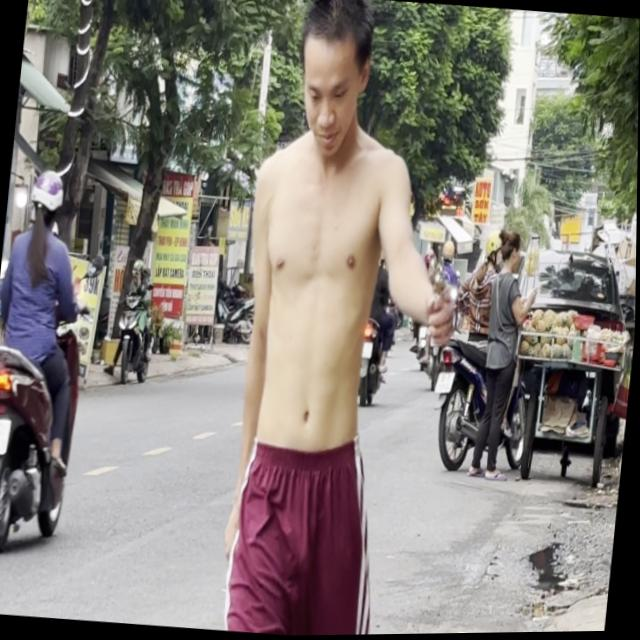helmet: (25, 167, 65, 228), (480, 227, 501, 266)
licenseplate: (0, 162, 104, 558)
nohelmet: (434, 371, 455, 394), (0, 417, 10, 454)
